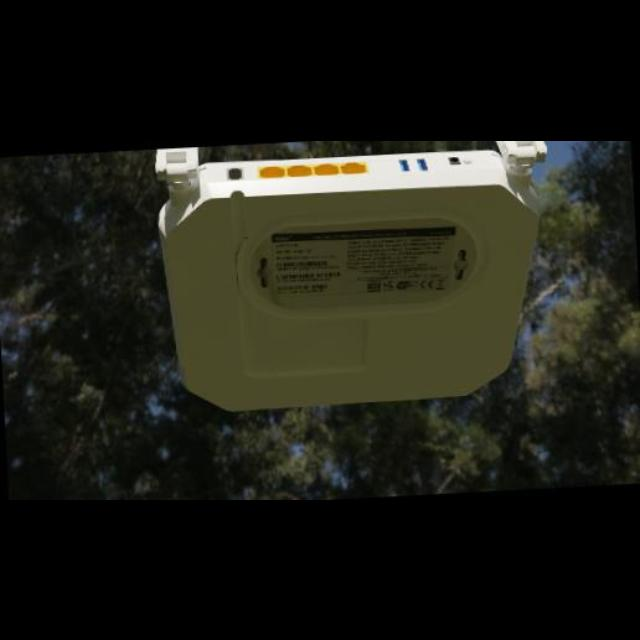Router: (134, 140, 562, 424)
